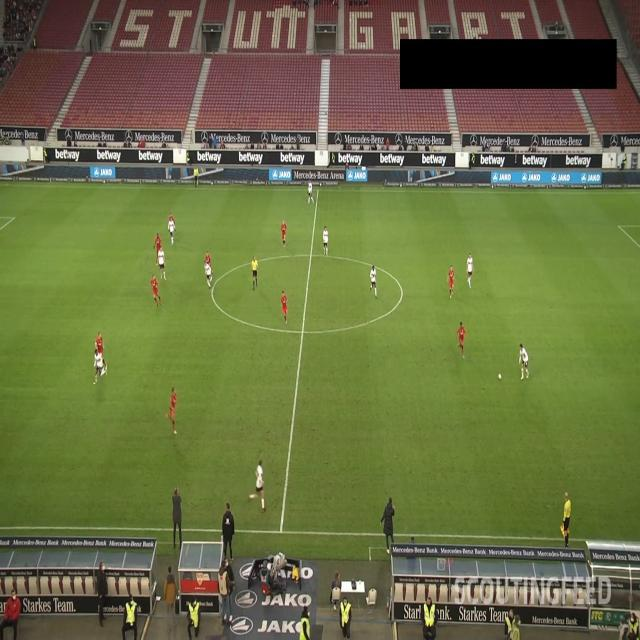ball: (497, 373, 502, 381)
